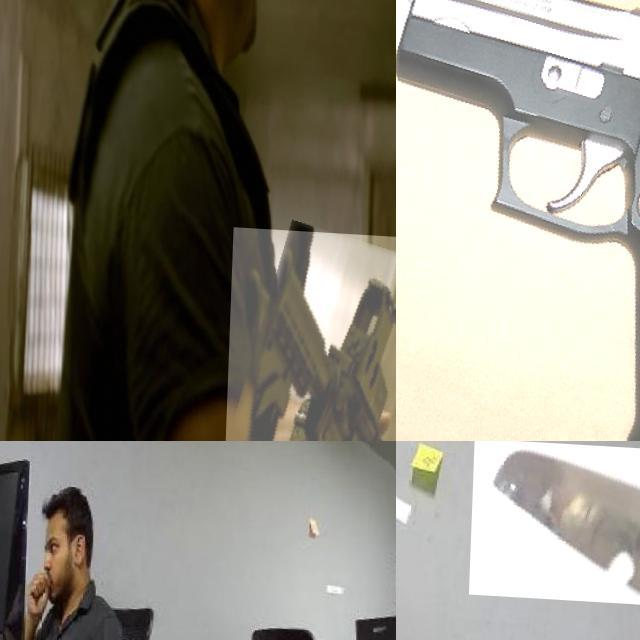-: (473, 441, 640, 601)
gun-knife-thesis - v11 Yolov5 augmented: (396, 0, 640, 441), (226, 223, 396, 441)
